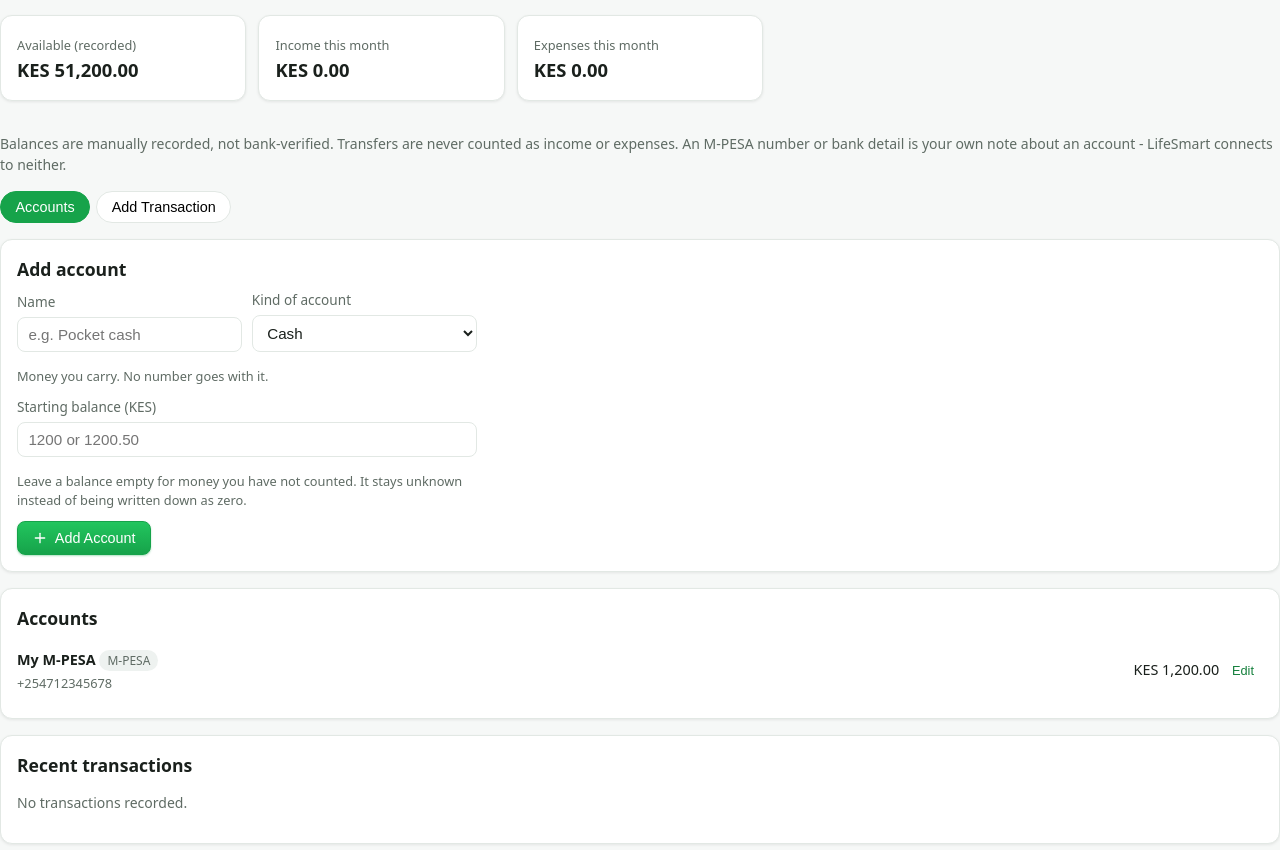
it: MoneyPage accounts › keeps the stored phone number when only the name is corrected
Expected: the text "+254712345678" is shown, [17,674,112,692]
Click the button "Edit" at (1243, 671), box [1223,659,1263,682]
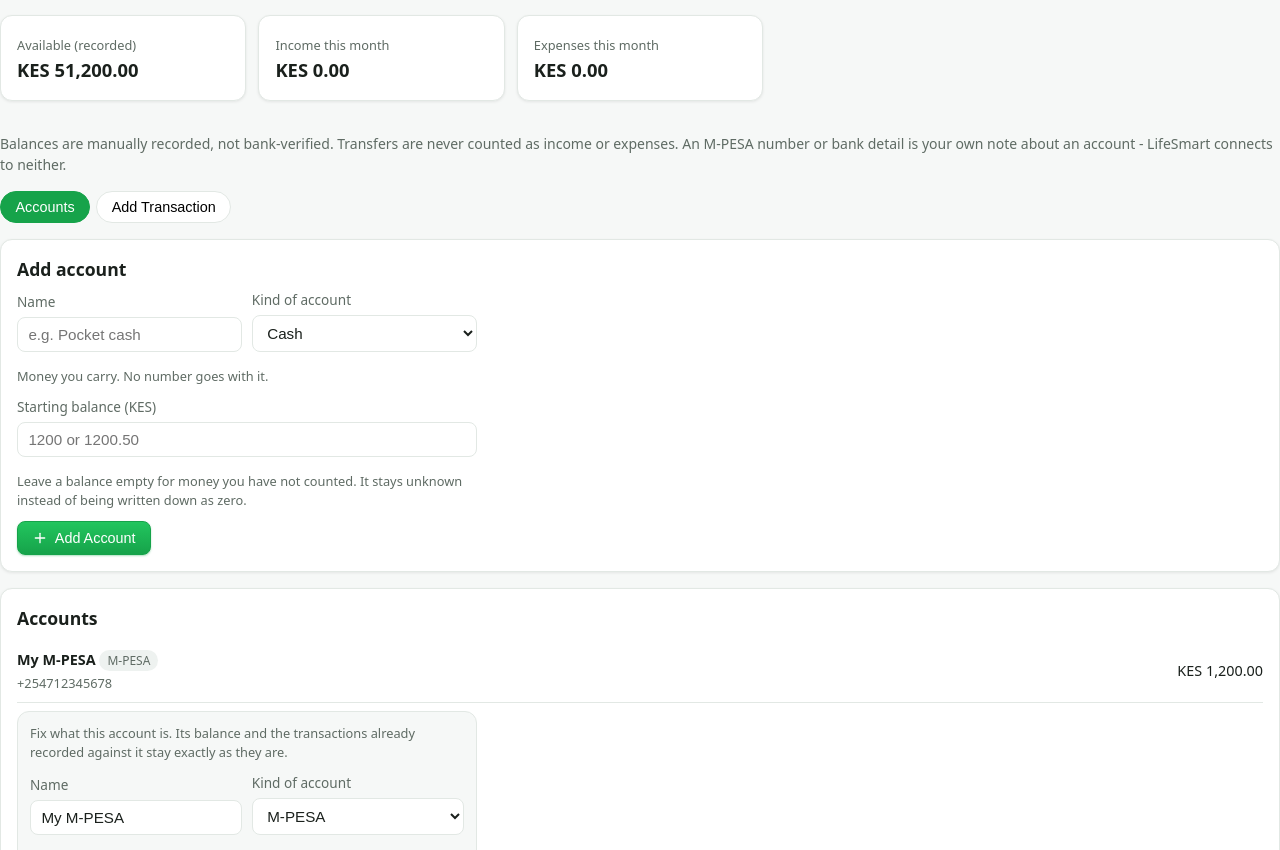
Replace the text in the field labelled "Name" below "+254712345678" with "Safaricom line" at (136, 817), box [30,800,242,835]
(page scrolled)
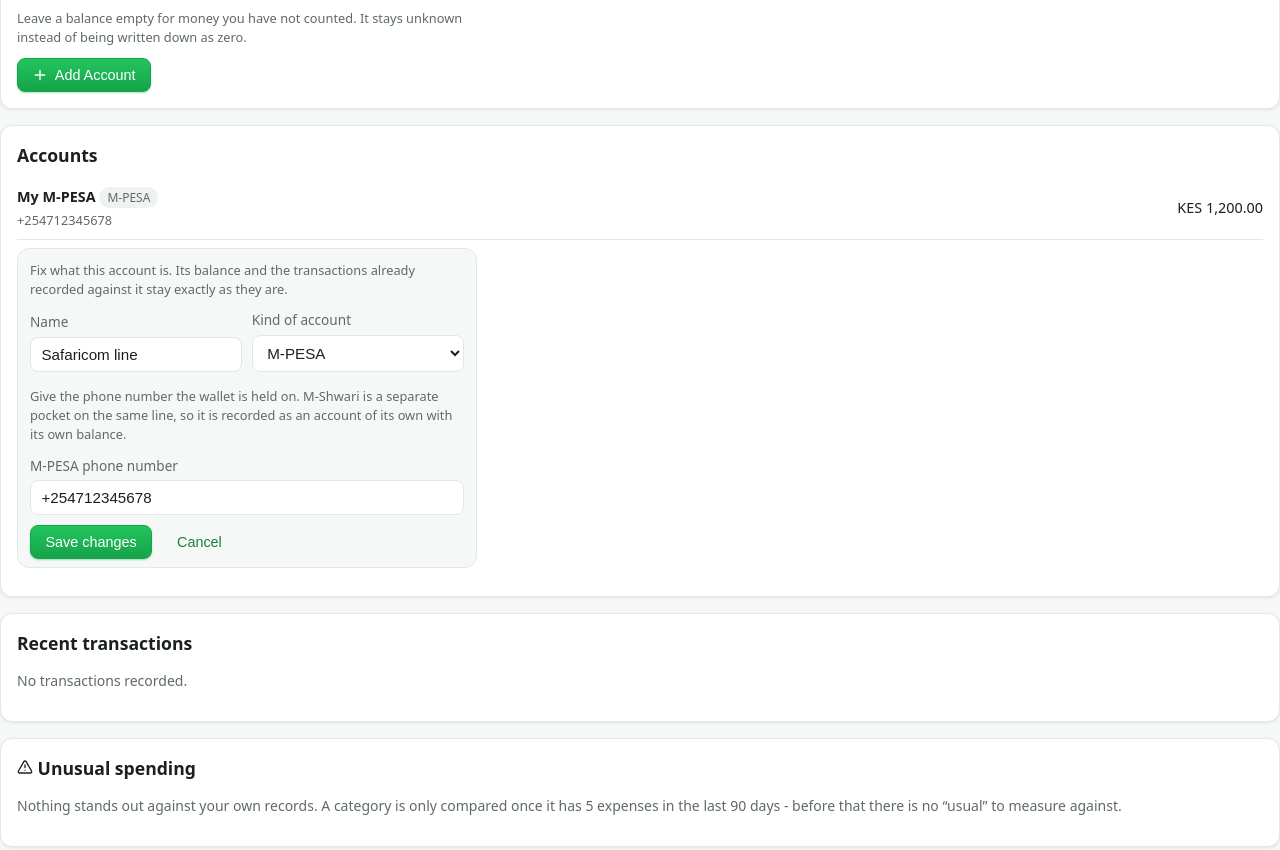
Click the button "Save changes" at (91, 542), box [30,524,152,558]
(page scrolled)
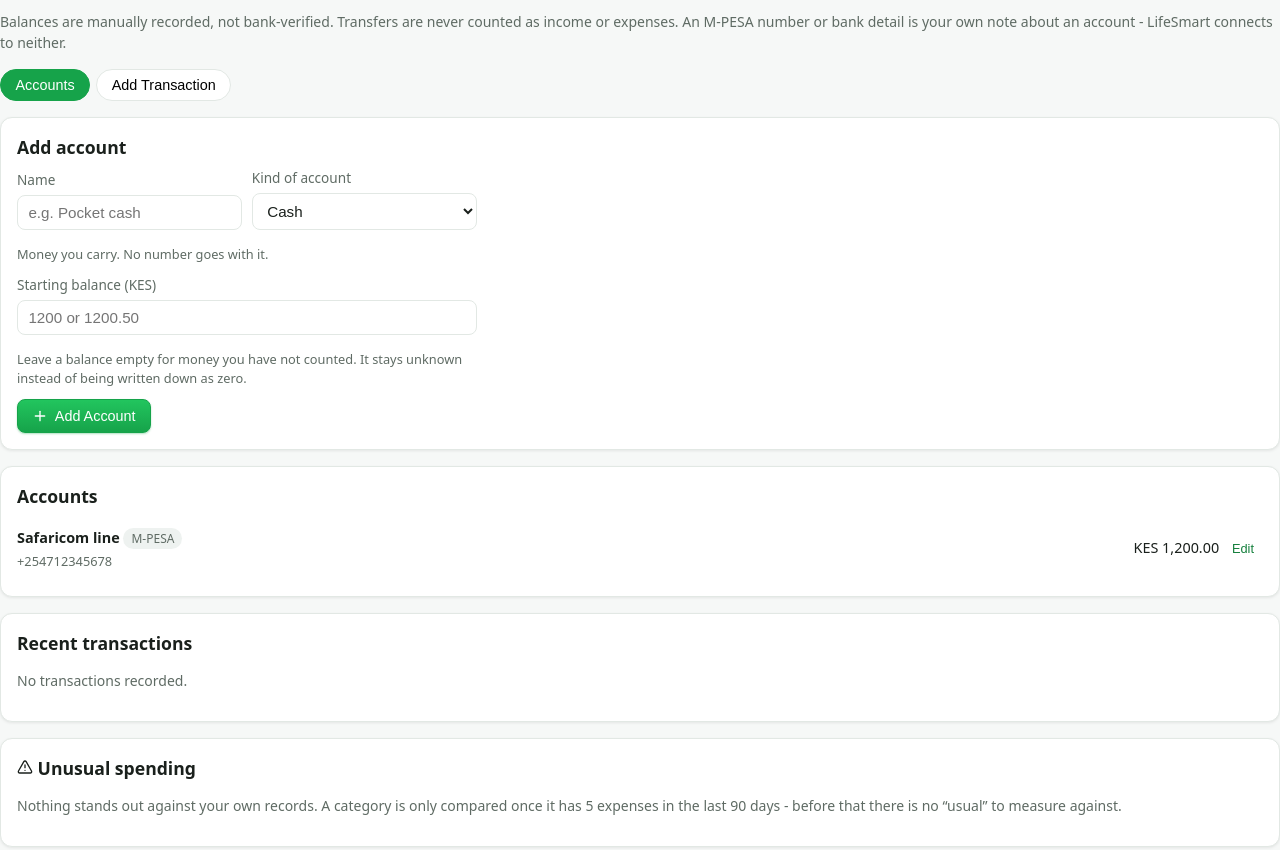
Now the text "Safaricom line" is shown, box [17,528,120,547]
